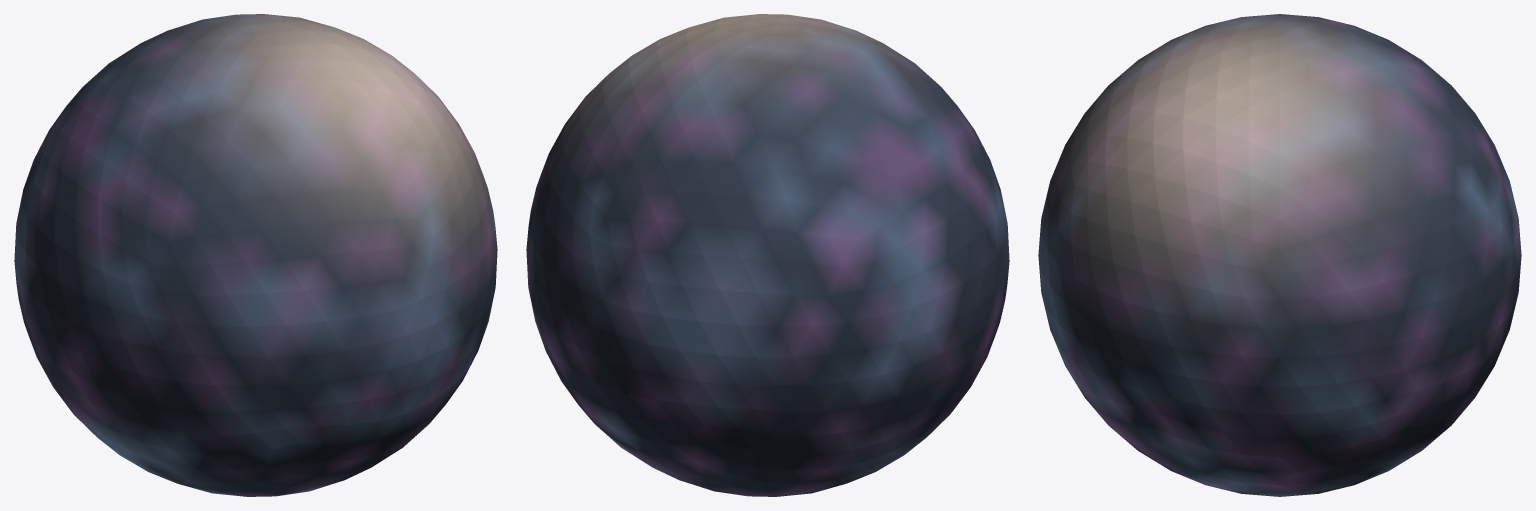
The model's file is sky_hesper.glb.
3 renders of one model, left to right at view 1: azimuth 30°, elevation 25°; view 2: azimuth 150°, elevation 25°; view 3: azimuth 270°, elevation 25°, orthographic.
Parts seen in each view (by area): view 1: sky_hesper; view 2: sky_hesper; view 3: sky_hesper.
Boxes of the visible parts, x1,y1,x2,y2 form: sky_hesper: [14, 14, 497, 496]; sky_hesper: [526, 14, 1009, 496]; sky_hesper: [1038, 14, 1521, 496].
Size of the model in its own units: 2 by 2 by 2.
